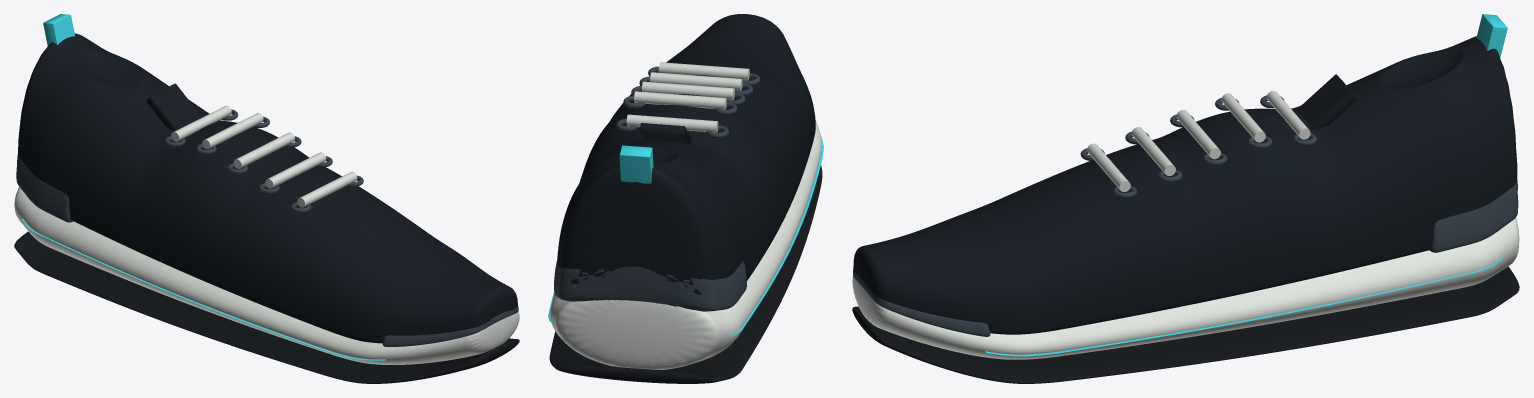
Rendered from running-shoe.glb.
3 renders of one model, left to right at view 1: azimuth 30°, elevation 25°; view 2: azimuth 150°, elevation 25°; view 3: azimuth 270°, elevation 25°, orthographic. The views are drawn at different scales.
Parts seen in each view (by area): view 1: titan.shoe.upper, titan.shoe.midsole, titan.shoe.outsole, titan.shoe.heel-counter, titan.shoe.tongue, titan.shoe.toe-cap, titan.shoe.stripe, titan.shoe.heel-tab, titan.shoe.lace.1, titan.shoe.lace.2, titan.shoe.lace.3, titan.shoe.lace.4 (+1 smaller); view 2: titan.shoe.upper, titan.shoe.midsole, titan.shoe.outsole, titan.shoe.heel-counter, titan.shoe.heel-tab, titan.shoe.lace.1, titan.shoe.lace.4, titan.shoe.lace.2, titan.shoe.lace.3, titan.shoe.lace.0, titan.shoe.tongue, titan.shoe.stripe; view 3: titan.shoe.upper, titan.shoe.midsole, titan.shoe.outsole, titan.shoe.heel-counter, titan.shoe.tongue, titan.shoe.toe-cap, titan.shoe.stripe, titan.shoe.heel-tab, titan.shoe.lace.1, titan.shoe.lace.2, titan.shoe.lace.3, titan.shoe.lace.4 (+1 smaller).
Boxes of the visible parts, x1,y1,x2,y2 form: titan.shoe.upper: [18, 33, 517, 343]; titan.shoe.midsole: [14, 186, 519, 364]; titan.shoe.outsole: [14, 231, 519, 383]; titan.shoe.heel-counter: [16, 154, 73, 222]; titan.shoe.tongue: [146, 83, 201, 131]; titan.shoe.toe-cap: [382, 306, 518, 346]; titan.shoe.stripe: [22, 219, 385, 360]; titan.shoe.heel-tab: [43, 14, 74, 45]; titan.shoe.lace.1: [202, 113, 263, 149]; titan.shoe.lace.2: [233, 132, 294, 168]; titan.shoe.lace.3: [265, 152, 326, 188]; titan.shoe.lace.4: [297, 171, 357, 207]; titan.shoe.upper: [557, 14, 815, 294]; titan.shoe.midsole: [550, 119, 821, 369]; titan.shoe.outsole: [549, 165, 822, 383]; titan.shoe.heel-counter: [554, 260, 746, 311]; titan.shoe.heel-tab: [619, 145, 653, 183]; titan.shoe.lace.1: [634, 91, 726, 109]; titan.shoe.lace.4: [658, 62, 749, 80]; titan.shoe.lace.2: [642, 81, 734, 99]; titan.shoe.lace.3: [650, 72, 742, 90]; titan.shoe.lace.0: [626, 114, 718, 132]; titan.shoe.tongue: [640, 123, 691, 144]; titan.shoe.stripe: [548, 136, 823, 336]; titan.shoe.upper: [853, 36, 1517, 334]; titan.shoe.midsole: [852, 217, 1519, 359]; titan.shoe.outsole: [852, 266, 1519, 383]; titan.shoe.heel-counter: [1429, 178, 1518, 252]; titan.shoe.tongue: [1296, 74, 1357, 129]; titan.shoe.toe-cap: [853, 270, 990, 336]; titan.shoe.stripe: [985, 257, 1503, 356]; titan.shoe.heel-tab: [1476, 14, 1507, 57]; titan.shoe.lace.1: [1221, 93, 1265, 142]; titan.shoe.lace.2: [1176, 110, 1220, 159]; titan.shoe.lace.3: [1131, 127, 1175, 175]; titan.shoe.lace.4: [1087, 143, 1130, 191].
Size of the model in its own units: 1.01 by 0.7827 by 1.86.
